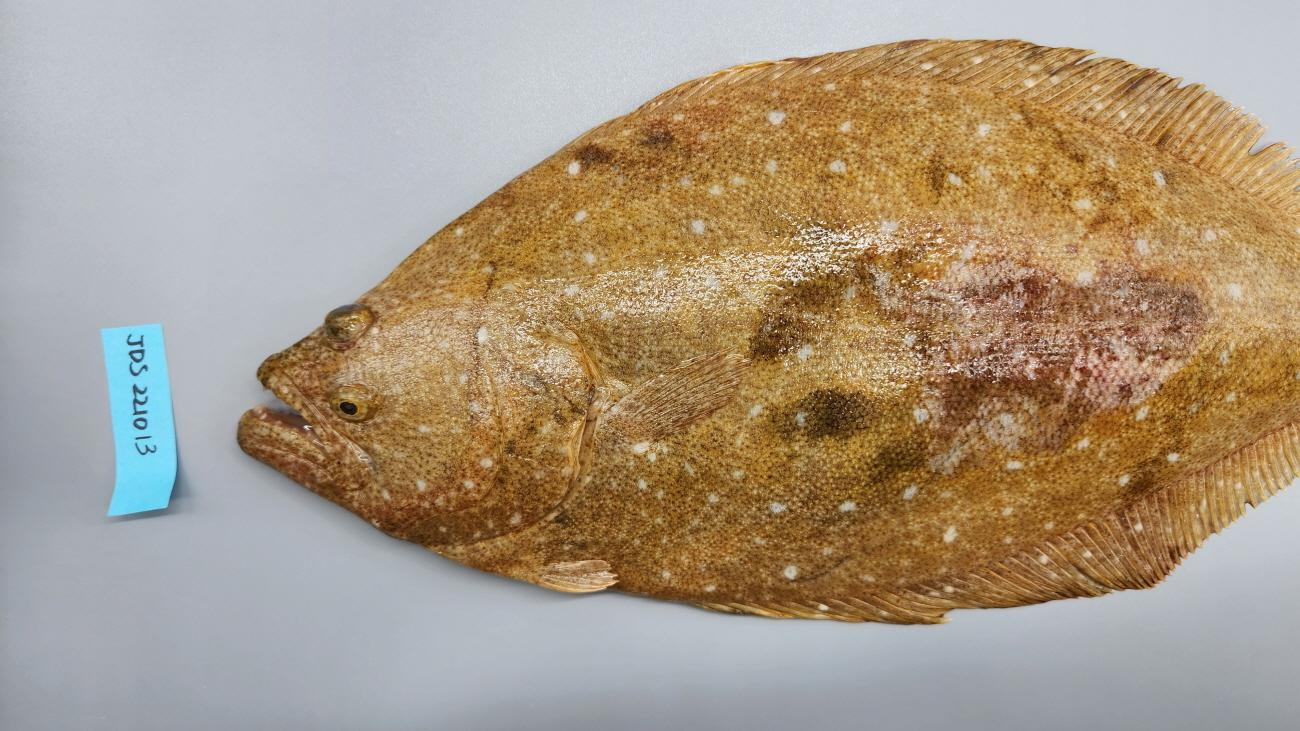POOUN: (238, 40, 1300, 625)
